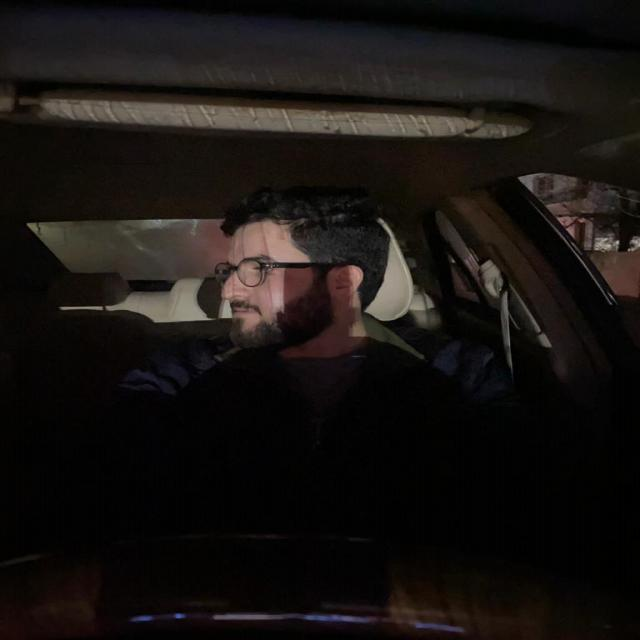LeftRight: (204, 174, 413, 370)
